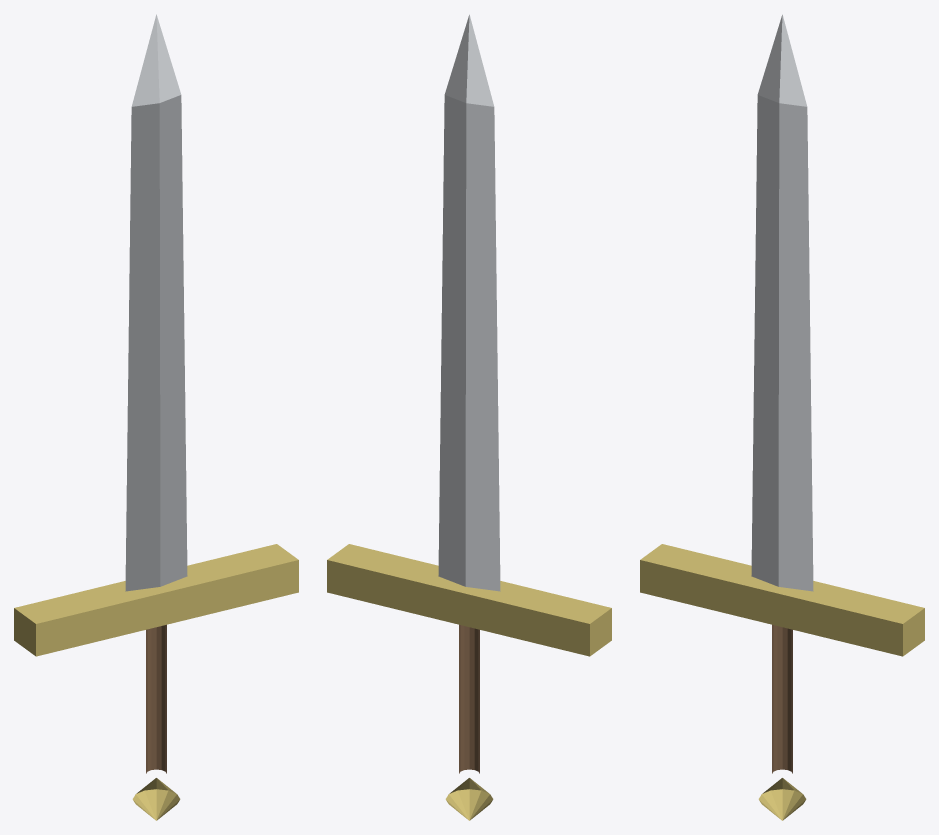
The model's file is sword.glb.
3 views of the same model, side by side, from view 1: azimuth 30°, elevation 25°; view 2: azimuth 150°, elevation 25°; view 3: azimuth 330°, elevation 25° (orthographic).
Visible parts, largest first — view 1: MedievalSword; view 2: MedievalSword; view 3: MedievalSword.
Boxes of the visible parts, box(x1,y1,x2,y2) form: MedievalSword: box(14, 14, 298, 820); MedievalSword: box(327, 14, 611, 820); MedievalSword: box(640, 14, 924, 820).
Bounding box in the file's own units: 0.76 × 2.23 × 0.12.
